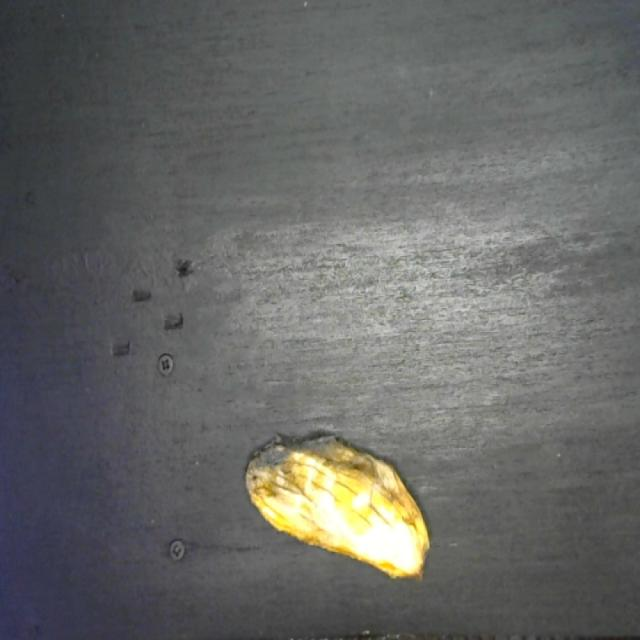biodegradable: (239, 424, 436, 587)
